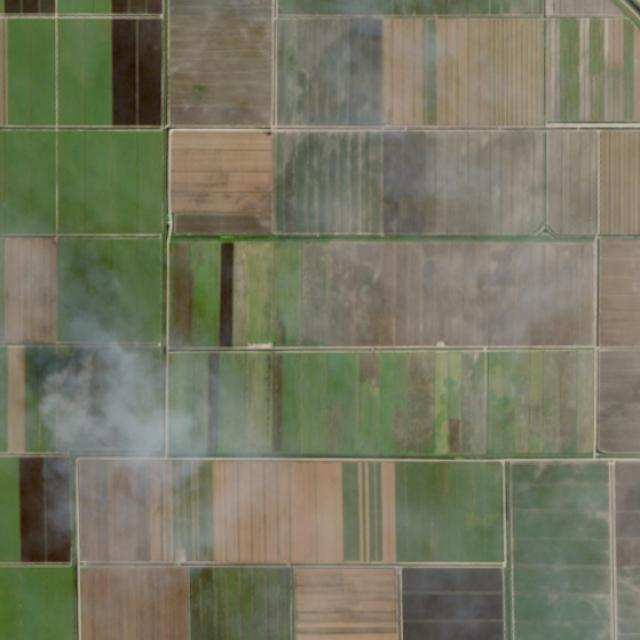wildfire: (8, 310, 129, 483)
